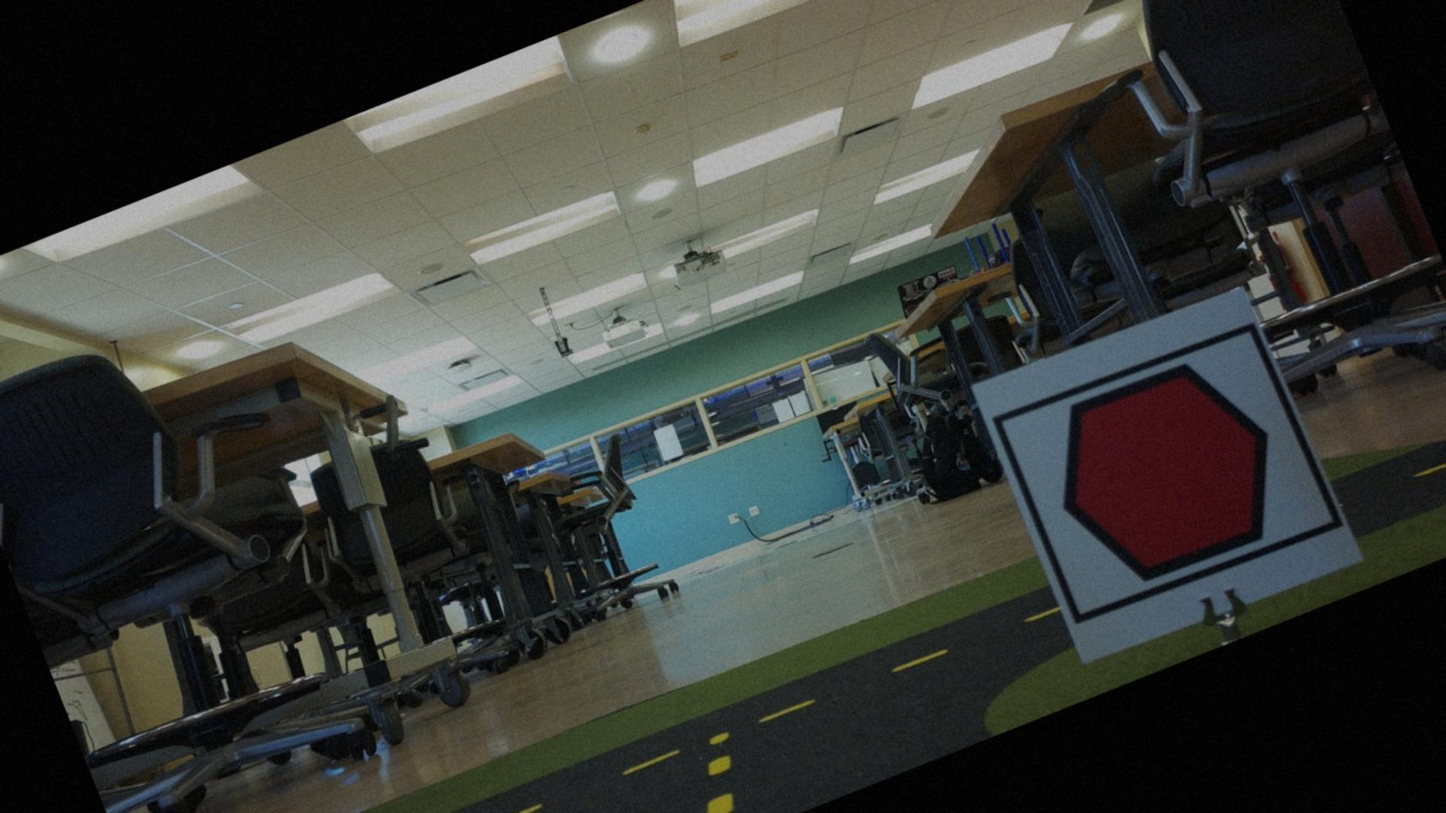stop: (1014, 330, 1319, 612)
yellowline: (679, 729, 755, 812)
